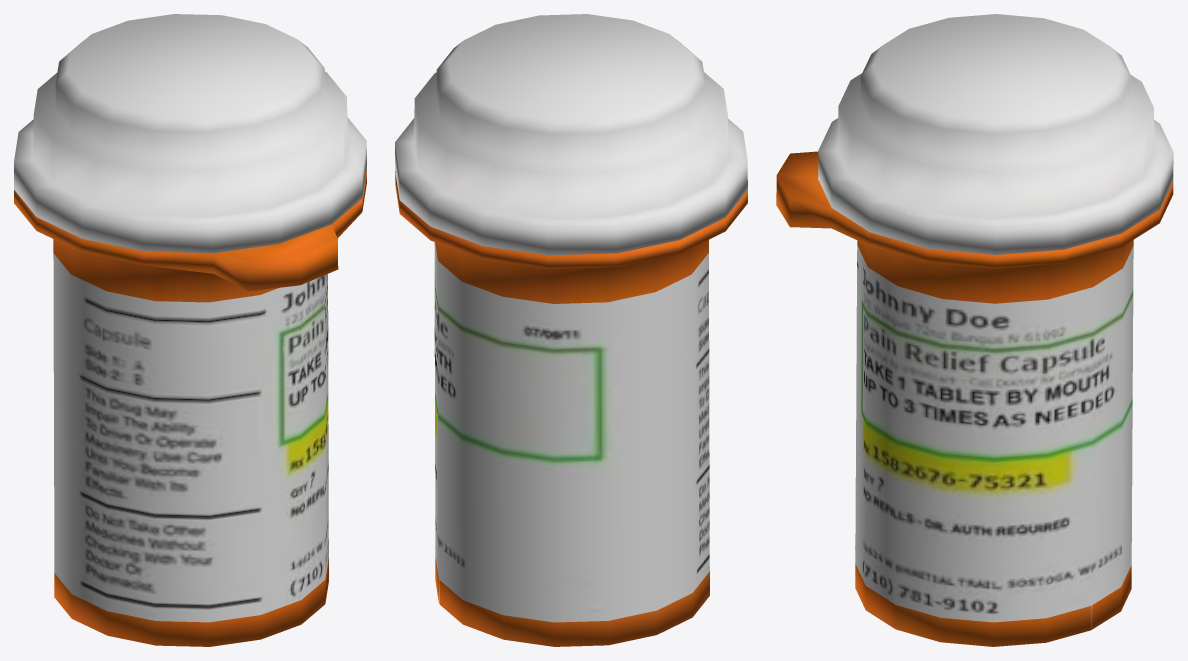
File: item-pills.glb
The picture shows the model from 3 angles, left to right: view 1: azimuth 30°, elevation 25°; view 2: azimuth 150°, elevation 25°; view 3: azimuth 270°, elevation 25°; orthographic projection.
Parts seen in each view (by area): view 1: Cylinder.003, Cylinder.002; view 2: Cylinder.003, Cylinder.002; view 3: Cylinder.003, Cylinder.002.
Boxes of the visible parts, bbox=[...] form: Cylinder.003: bbox=[14, 170, 366, 646]; Cylinder.002: bbox=[14, 14, 366, 253]; Cylinder.003: bbox=[395, 171, 747, 646]; Cylinder.002: bbox=[395, 14, 747, 255]; Cylinder.003: bbox=[776, 151, 1173, 646]; Cylinder.002: bbox=[818, 14, 1173, 254].
Size of the model in its own units: 0.9896 by 1.61 by 1.11.
Materials: 1 (1 with a texture image).
